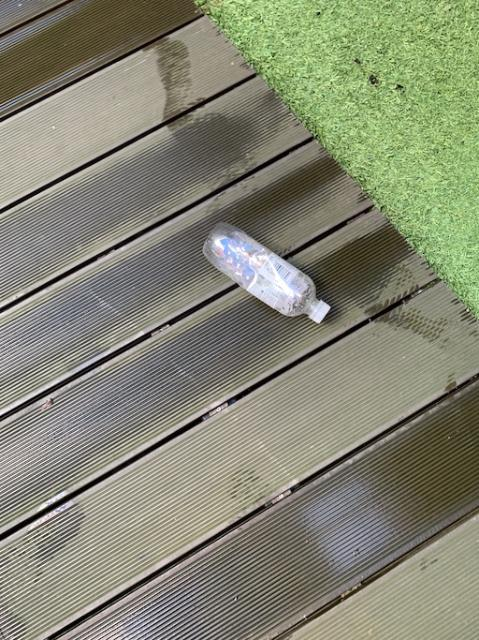plastic: (202, 221, 329, 321)
